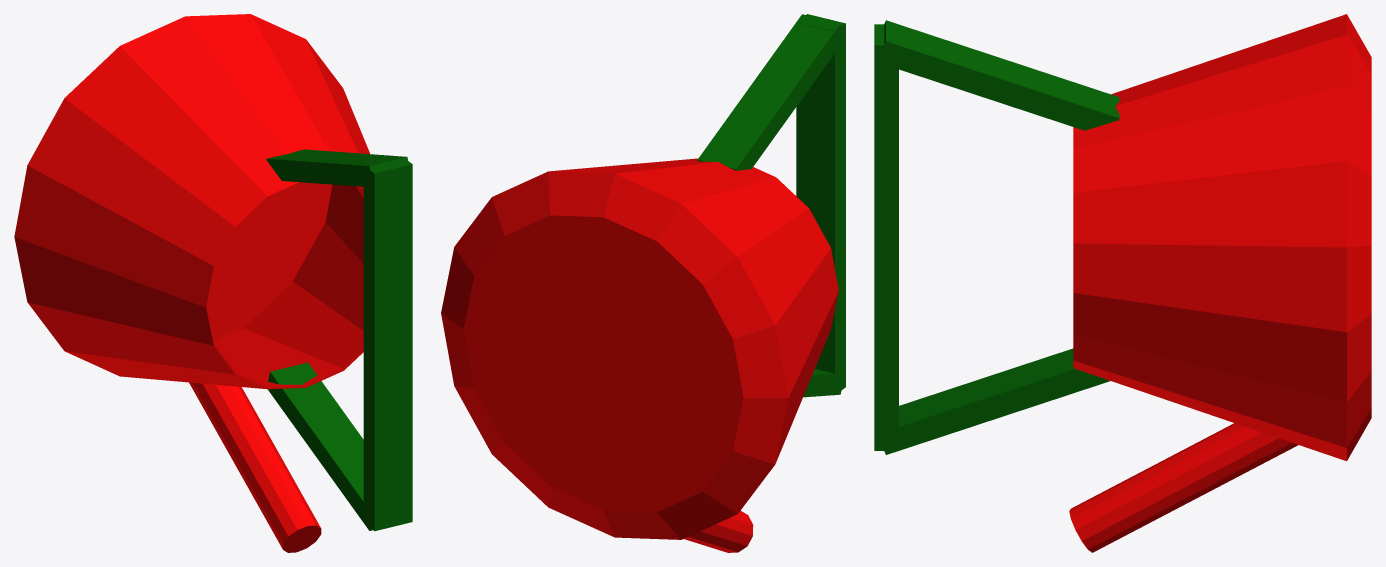
File: KETTLE-BODYSET2_link_mesh.dae
3 renders of one model, left to right at view 1: azimuth 30°, elevation 25°; view 2: azimuth 150°, elevation 25°; view 3: azimuth 270°, elevation 25°, orthographic. The views are drawn at different scales.
Visible parts, largest first — view 1: KETTLE-BODYSET2_link (×3); view 2: KETTLE-BODYSET2_link (×3); view 3: KETTLE-BODYSET2_link (×3).
Boxes of the visible parts, x1,y1,x2,y2 form: KETTLE-BODYSET2_link (×3): (14,14,412,552); KETTLE-BODYSET2_link (×3): (441,14,845,552); KETTLE-BODYSET2_link (×3): (874,14,1371,552).
Size of the model in its own units: 0.18 by 0.2305 by 0.2.
